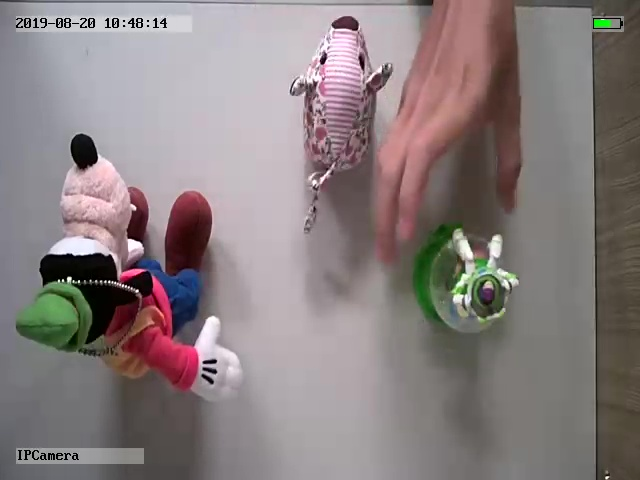buzz: (413, 225, 524, 337)
goofy: (13, 130, 245, 406)
pig: (288, 13, 396, 234)
